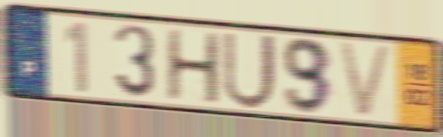1: (63, 19, 89, 96)
3: (112, 23, 158, 101)
9: (280, 36, 335, 118)
H: (164, 27, 223, 107)
U: (220, 29, 279, 112)
V: (335, 39, 397, 121)
